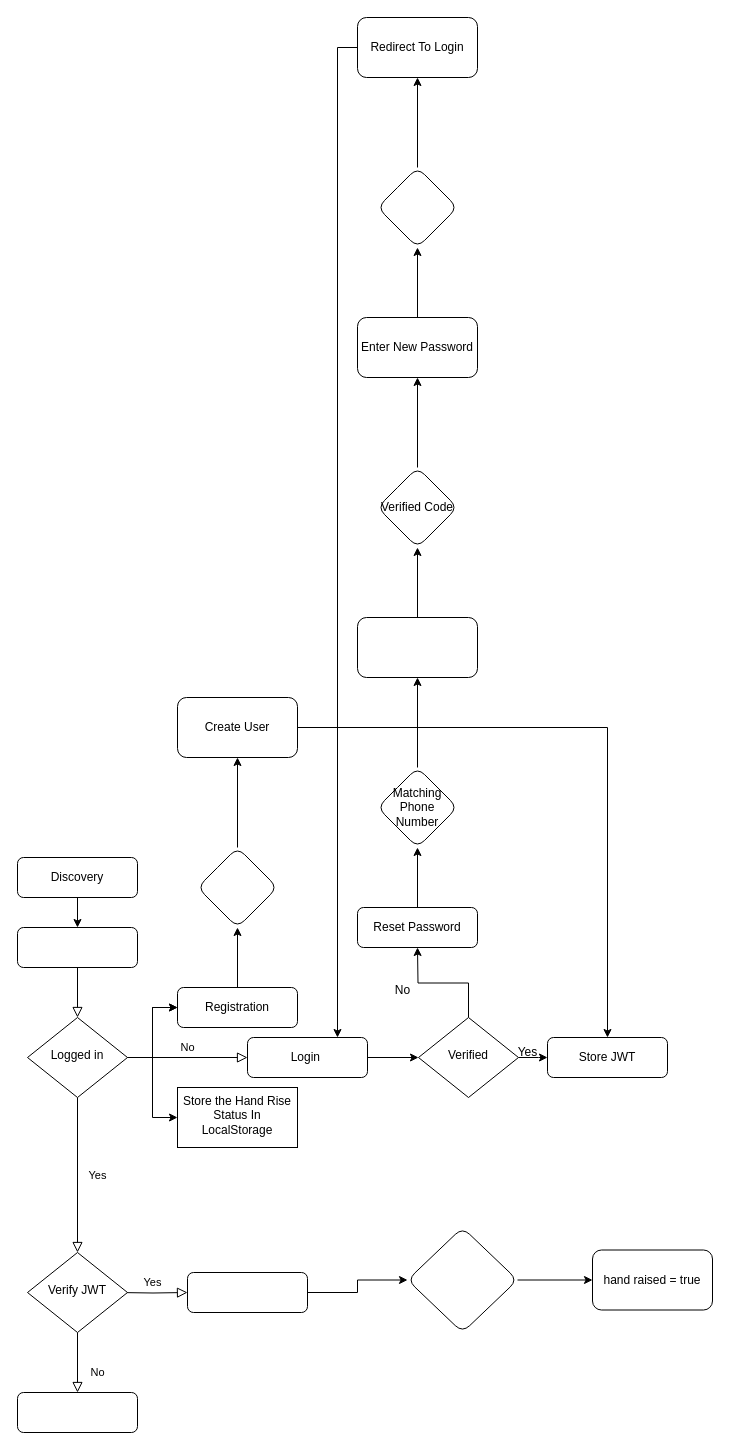
Some shapes in this 730 by 1450 pixel diagram are drawn without their labels. The centre of each missing label's shape, as x and y in pixels:
"Dashboard" belongs at pixel 247 1292.
"Get Hand Rise From Local Storage" belongs at pixel 462 1279.
"Hand Rise" belongs at pixel 77 947.
"Phone Number Verified" belongs at pixel 237 887.
"Refresh JWT" belongs at pixel 77 1412.
"Send Code with SMS" belongs at pixel 417 647.
"Strong Password" belongs at pixel 417 207.
